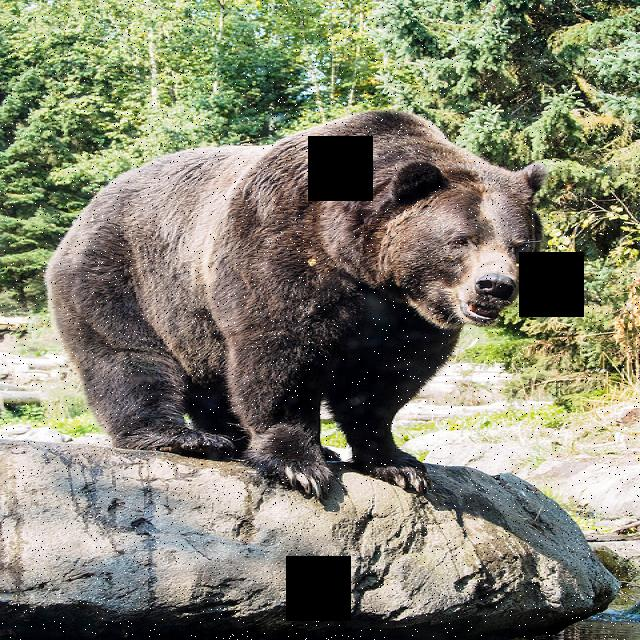Bear: (49, 113, 550, 489)
